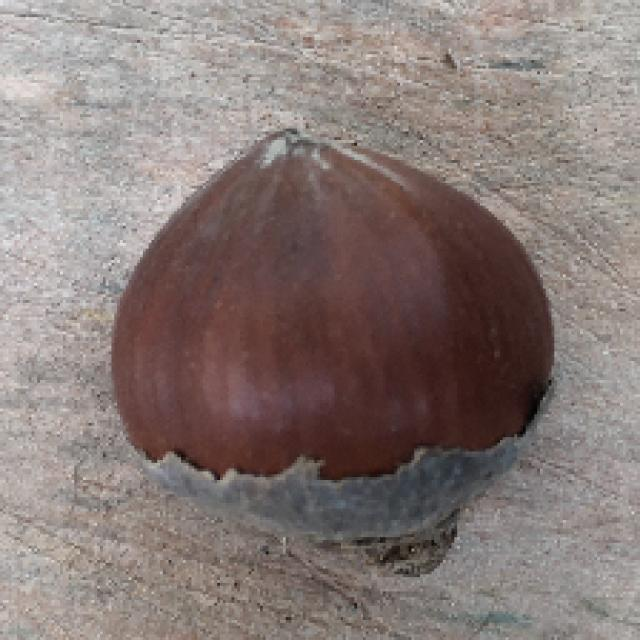damagedHazelnut: (103, 119, 558, 592)
